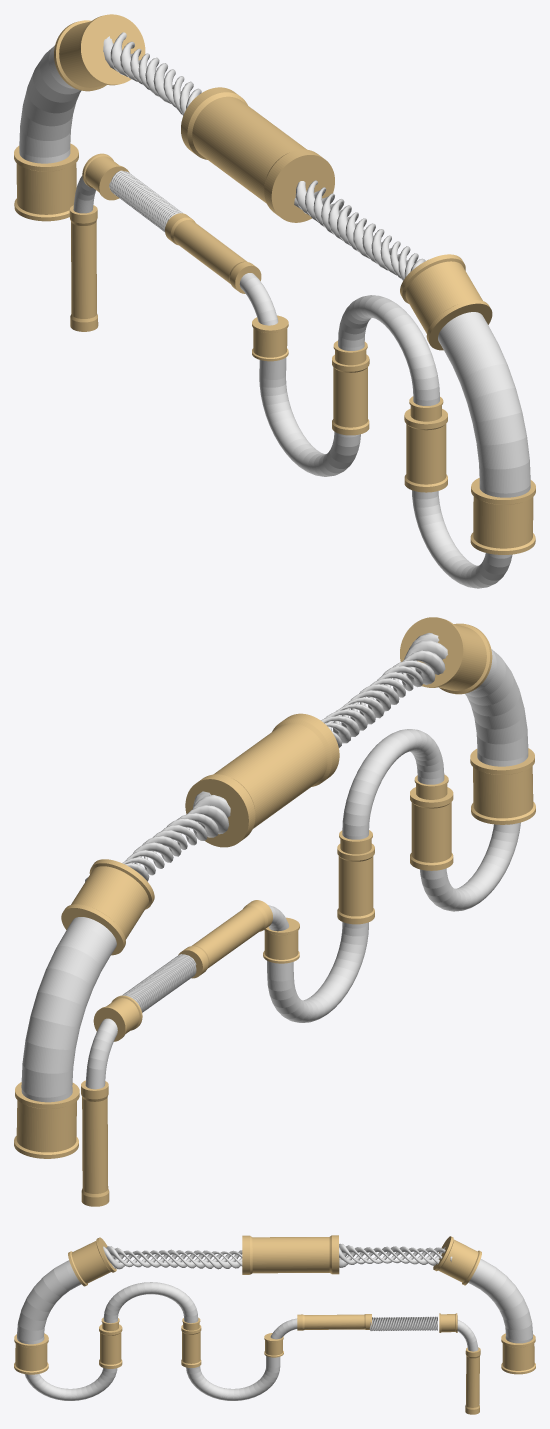
The model's file is wirepuzcomhard.fbx.
The picture shows the model from 3 angles, top to bottom: view 1: azimuth 30°, elevation 25°; view 2: azimuth 150°, elevation 25°; view 3: azimuth 270°, elevation 25°; orthographic projection. The views are drawn at different scales.
Parts seen in each view (by area): view 1: Cube.075; view 2: Cube.075; view 3: Cube.075.
Boxes of the visible parts, x1,y1,x2,y2 form: Cube.075: (14,14,535,588); Cube.075: (14,617,535,1206); Cube.075: (14,1235,535,1414).
Bounding box in the file's own units: 191 × 905 × 2441.
